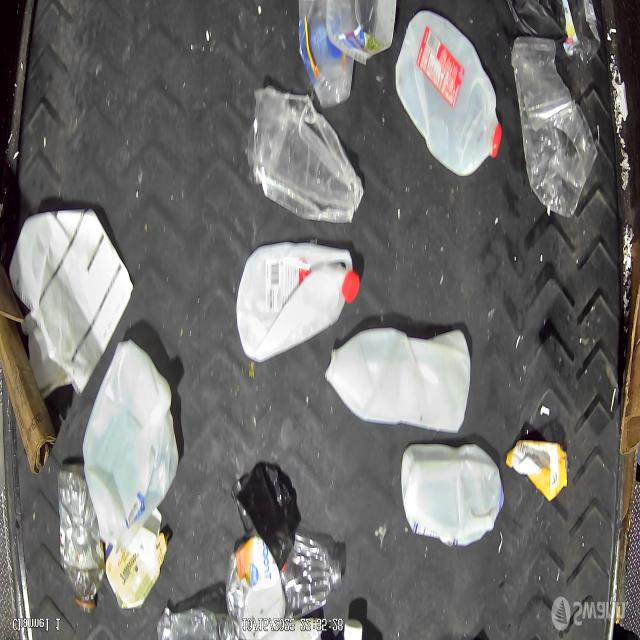milk_jug: (84, 342, 175, 542), (395, 11, 503, 179), (324, 327, 471, 432), (235, 242, 361, 362), (400, 441, 504, 546)
plastic_bottle: (244, 86, 364, 225), (510, 35, 597, 219), (224, 536, 342, 640), (58, 473, 104, 612), (297, 0, 355, 110), (325, 0, 398, 68)
